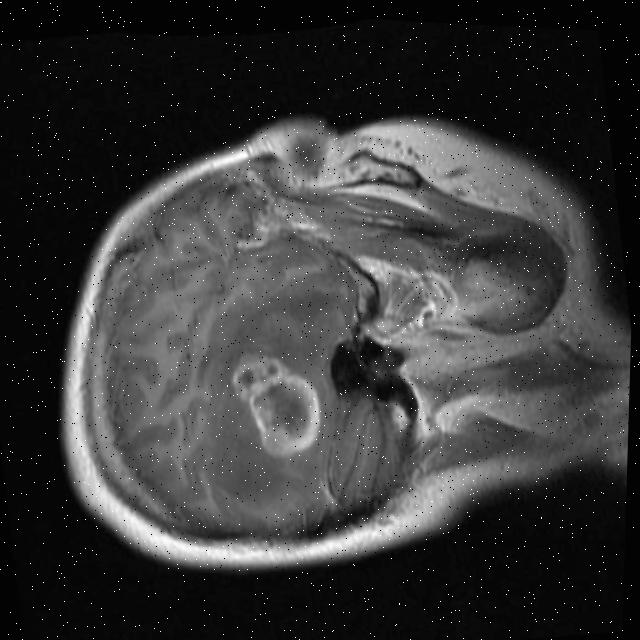Glioma: (226, 343, 328, 466)
